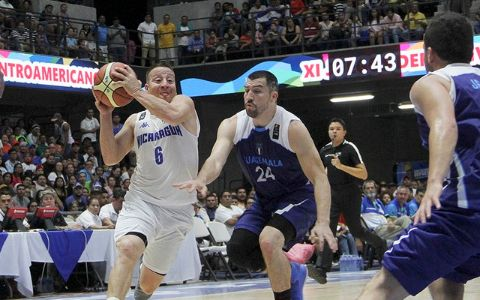baloncesto: (93, 61, 137, 109)
